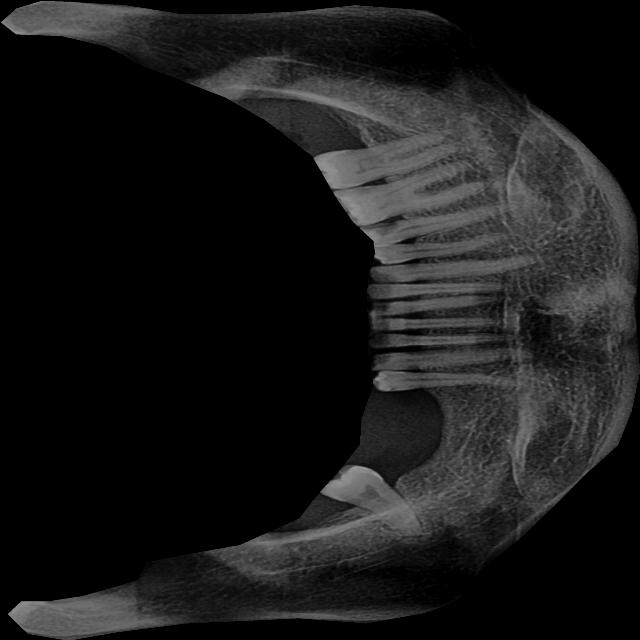mandibula: (1, 0, 640, 640)
